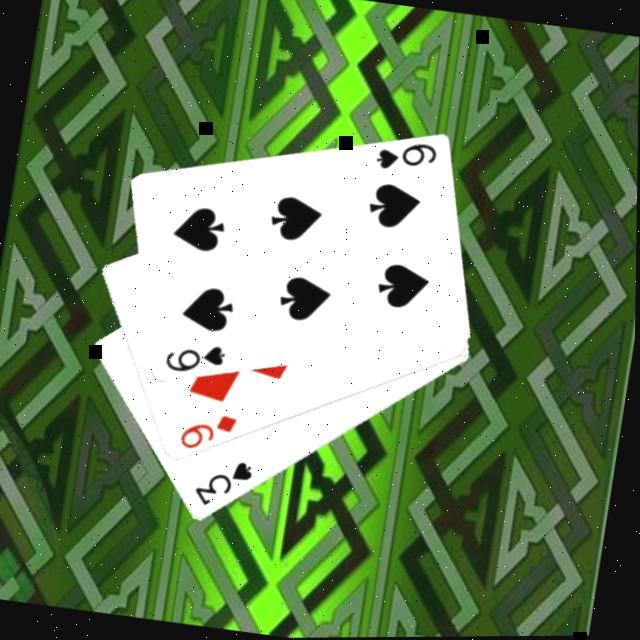3S: (190, 450, 259, 514)
6S: (369, 134, 441, 180), (160, 336, 231, 381)
9D: (174, 406, 242, 458)
